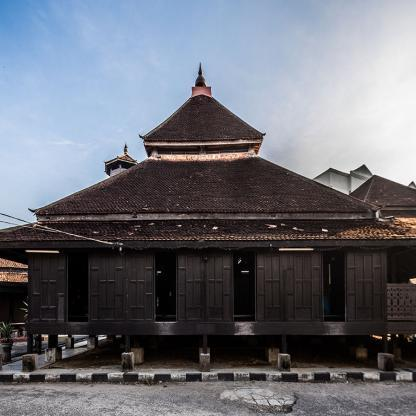Building Outline: (0, 61, 416, 372)
Door: (323, 252, 345, 322), (234, 252, 256, 322), (155, 252, 176, 322), (68, 252, 88, 322)
Facade: (26, 241, 387, 373)
Floor Slab: (26, 323, 387, 335)
Raised Floor: (26, 241, 387, 324)
Roof: (0, 155, 416, 242), (139, 61, 267, 140)
